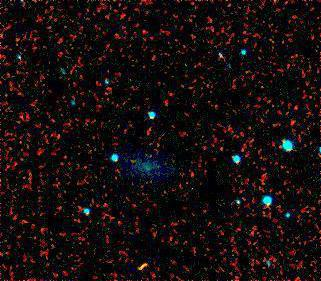star: (128, 248, 158, 278)
